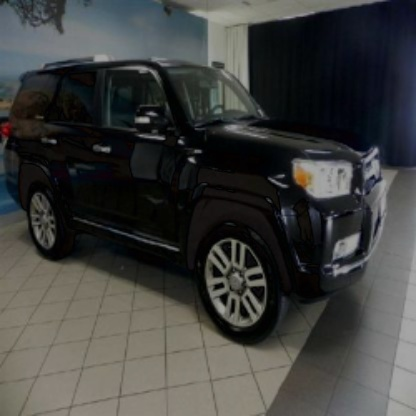Vehicle: (3, 50, 389, 346)
